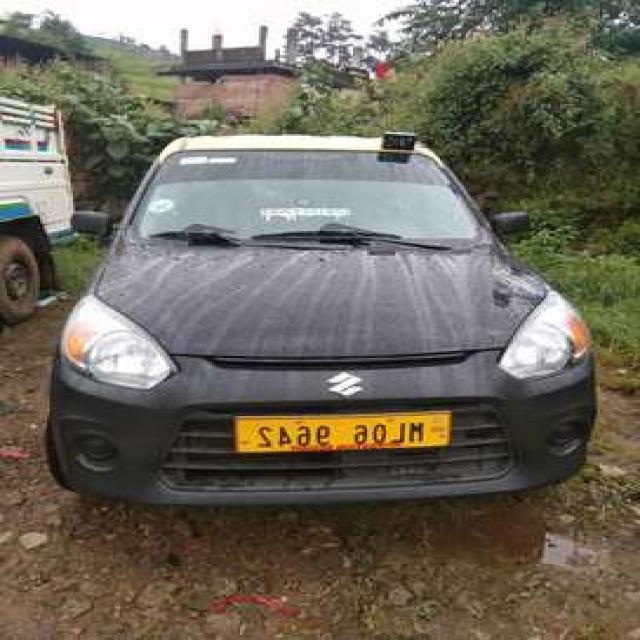license_plate: (225, 404, 462, 455)
